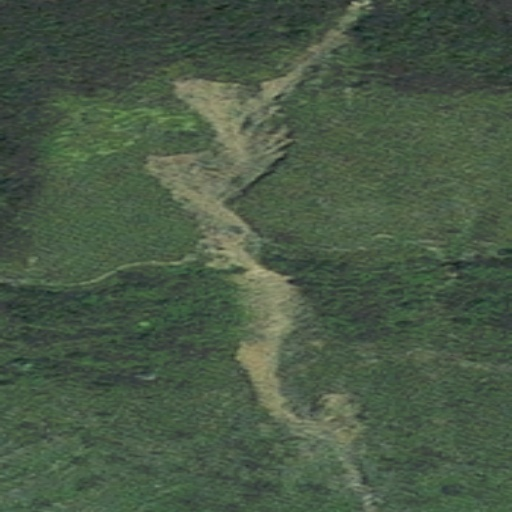landslide: (150, 79, 305, 419)
